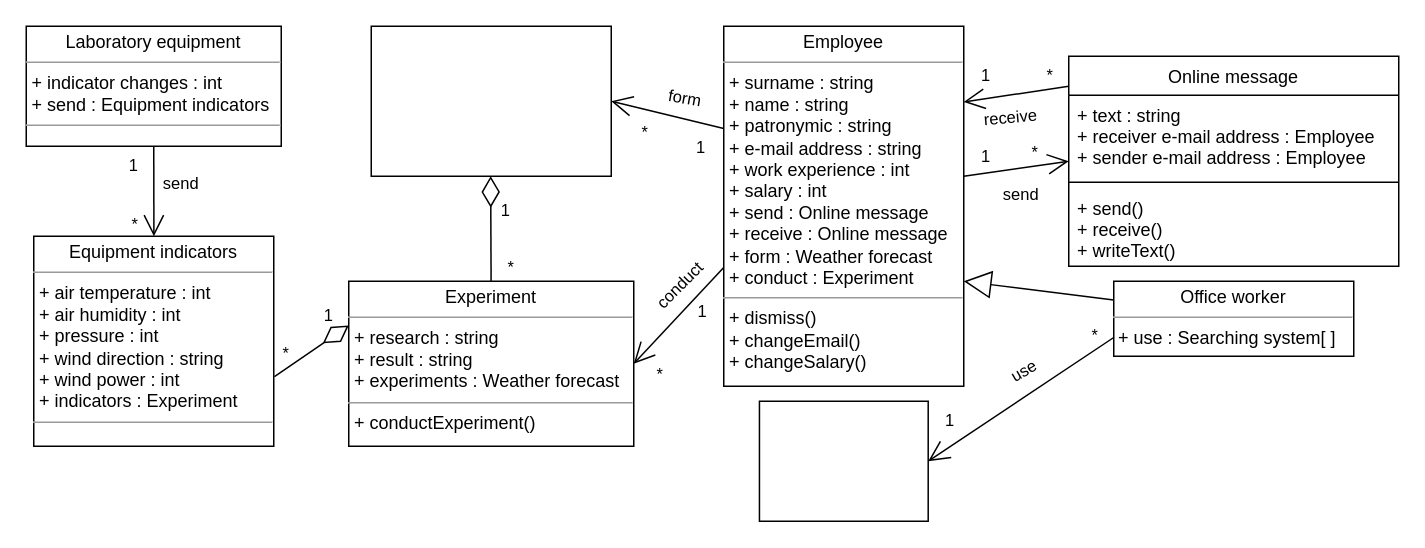
Some shapes in this 1425 by 548 pixel diagram are drawn without their labels. Here are the shapes that lost their labels. From the top down, the centre of each, then its label:
At [490,100]: "Weather forecast + date : date + time : time + formWeatherForecast()".
At [843,460]: "Searching system + request : string + findInformation()".
